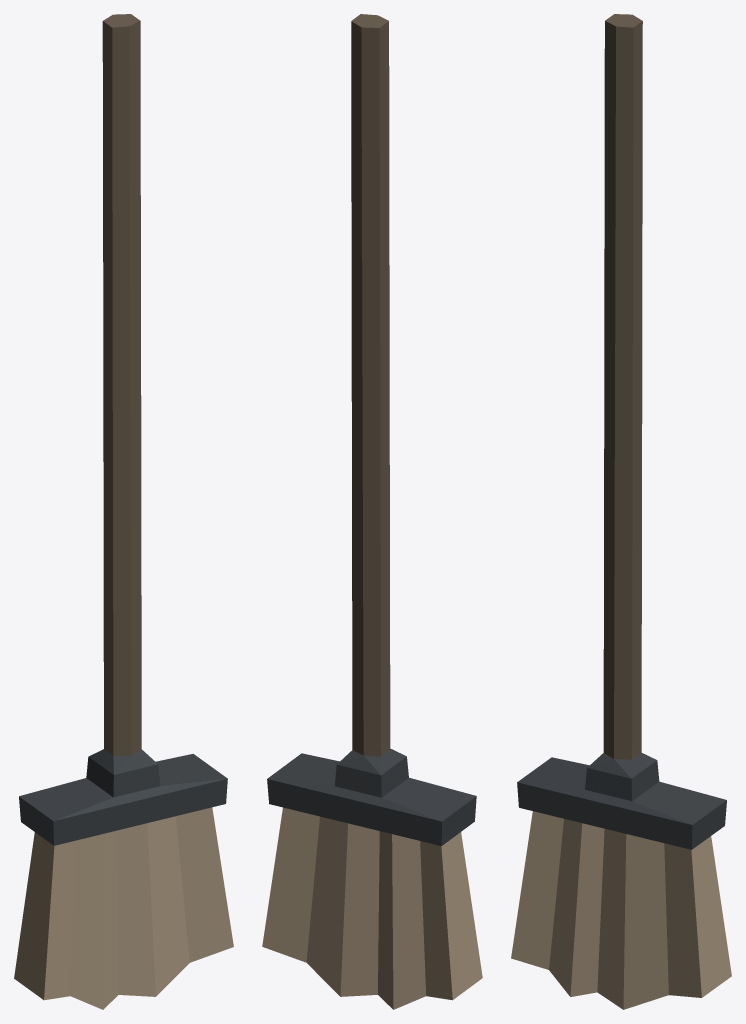
The model's file is SM_Prop_Broom_01.fbx.
3 renders of one model, left to right at view 1: azimuth 30°, elevation 25°; view 2: azimuth 150°, elevation 25°; view 3: azimuth 330°, elevation 25°, orthographic.
Visible parts, largest first — view 1: SM_Prop_Broom_01; view 2: SM_Prop_Broom_01; view 3: SM_Prop_Broom_01.
Boxes of the visible parts, box(x1,y1,x2,y2) form: SM_Prop_Broom_01: box(14, 14, 233, 1009); SM_Prop_Broom_01: box(262, 14, 482, 1009); SM_Prop_Broom_01: box(511, 14, 731, 1009).
Bounding box in the file's own units: 27.66 × 135 × 8.7.
1 material, 1 textured.
